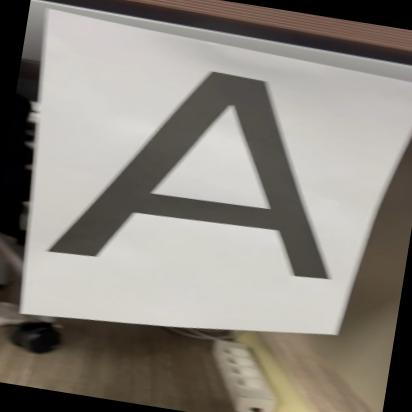seat: (29, 43, 371, 309)
